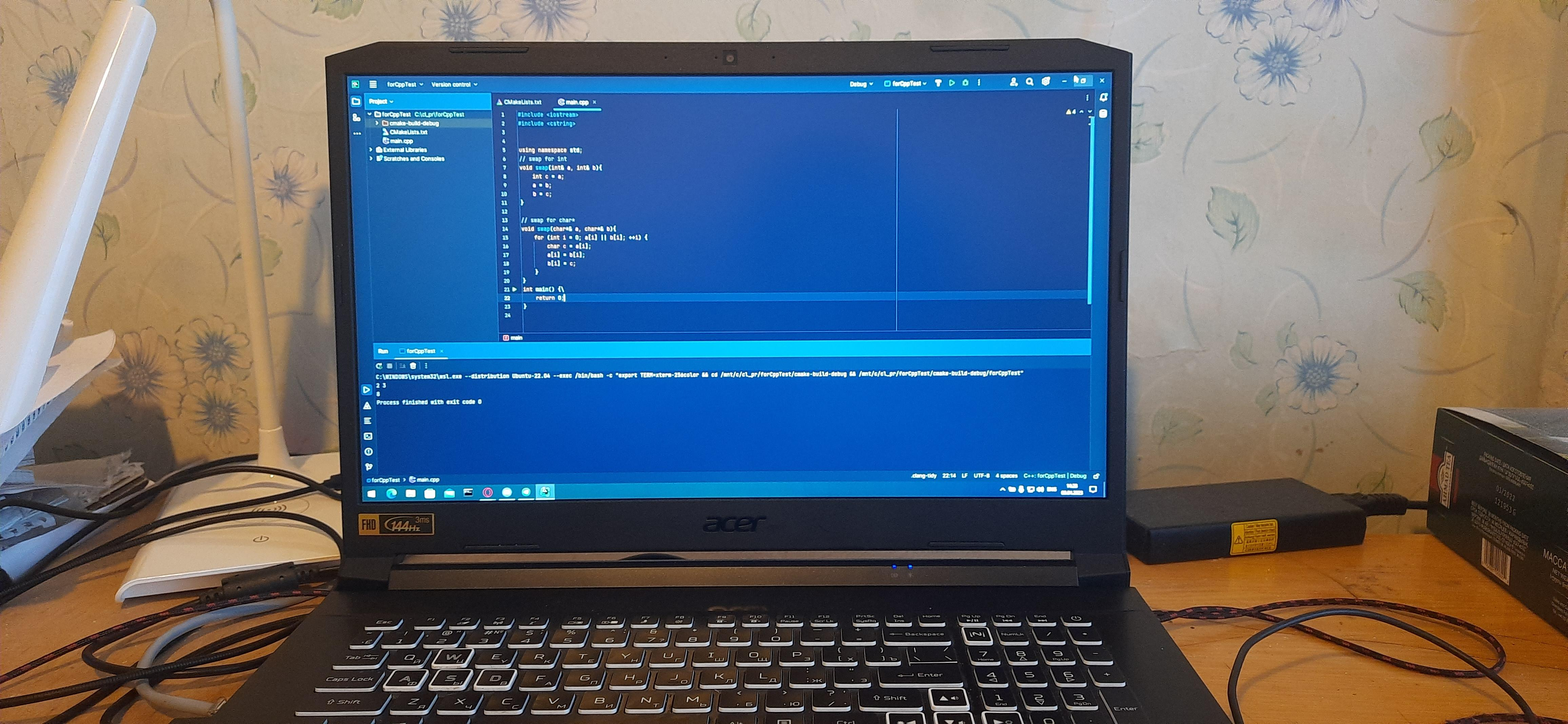monitor: (322, 34, 1139, 581)
